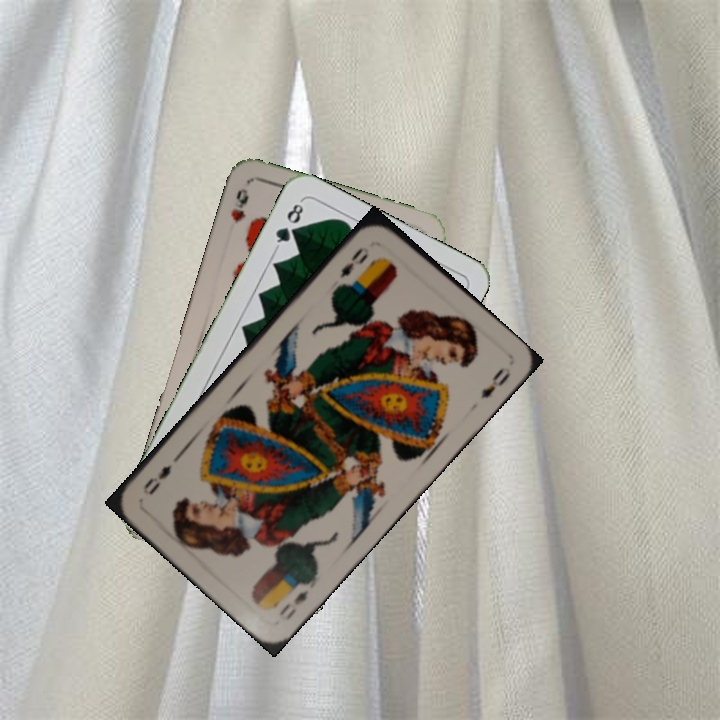EO: (335, 242, 372, 281), (275, 585, 311, 623)
G8: (271, 197, 306, 252)
H9: (227, 184, 252, 226)
